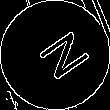N_SW: (23, 24, 87, 86)
